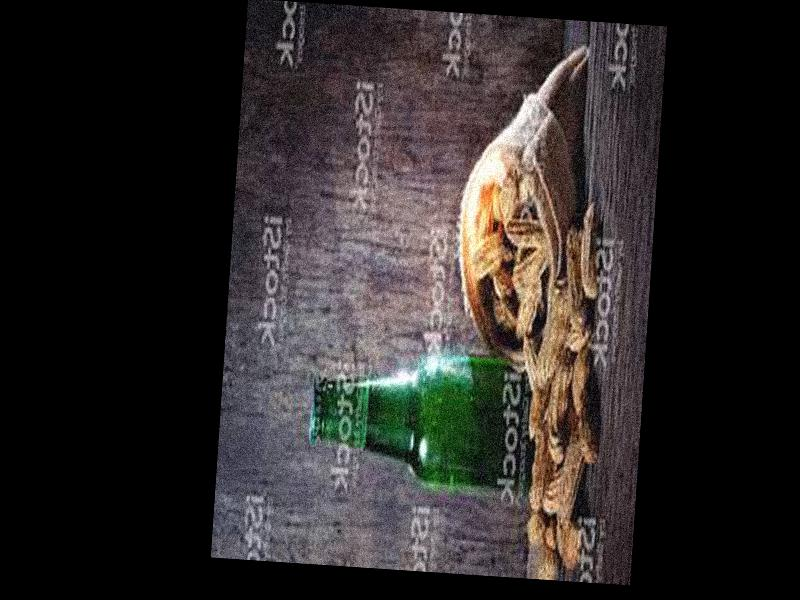Beer: (303, 340, 556, 494)
